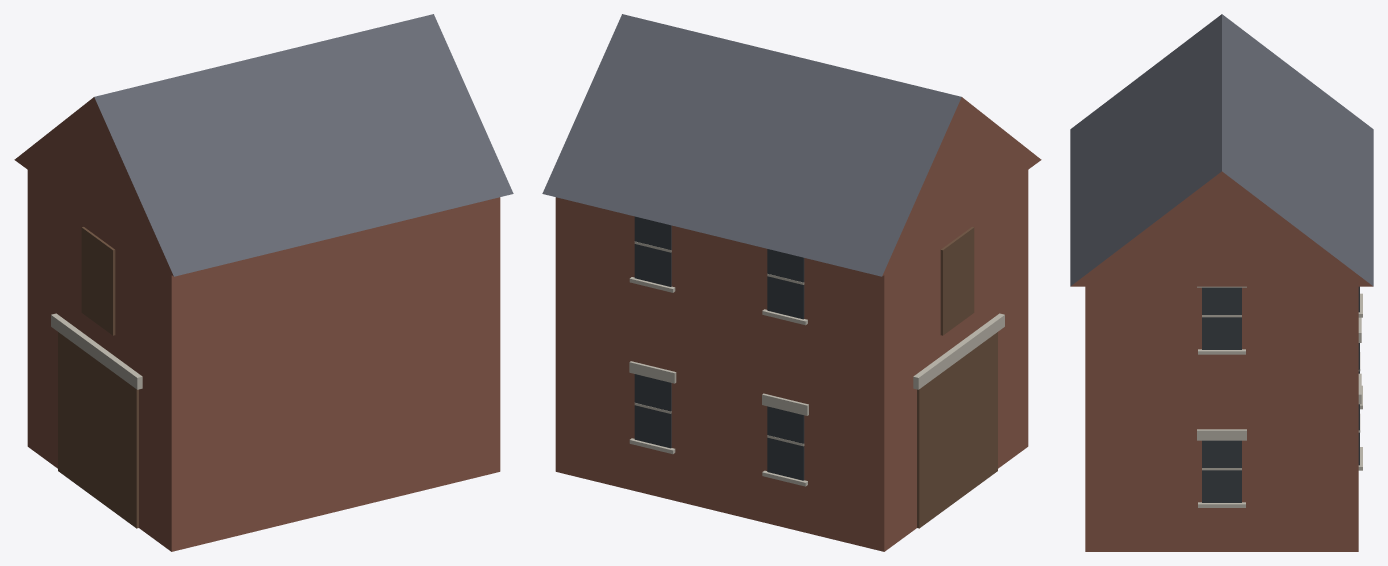
The model's file is house_1807_indiana_shed__draft_1904.glb.
3 views of the same model, side by side, from view 1: azimuth 30°, elevation 25°; view 2: azimuth 150°, elevation 25°; view 3: azimuth 270°, elevation 25° (orthographic). The views are drawn at different scales.
Visible parts, largest first — view 1: house_1807_indiana_shed__draft_1904; view 2: house_1807_indiana_shed__draft_1904; view 3: house_1807_indiana_shed__draft_1904.
Part boxes in pixels (left/top/right/bottom): house_1807_indiana_shed__draft_1904: left=14, top=14, right=513, bottom=551; house_1807_indiana_shed__draft_1904: left=542, top=14, right=1041, bottom=551; house_1807_indiana_shed__draft_1904: left=1070, top=14, right=1373, bottom=551.
Size of the model in its own units: 7.49 by 8.51 by 6.1.
